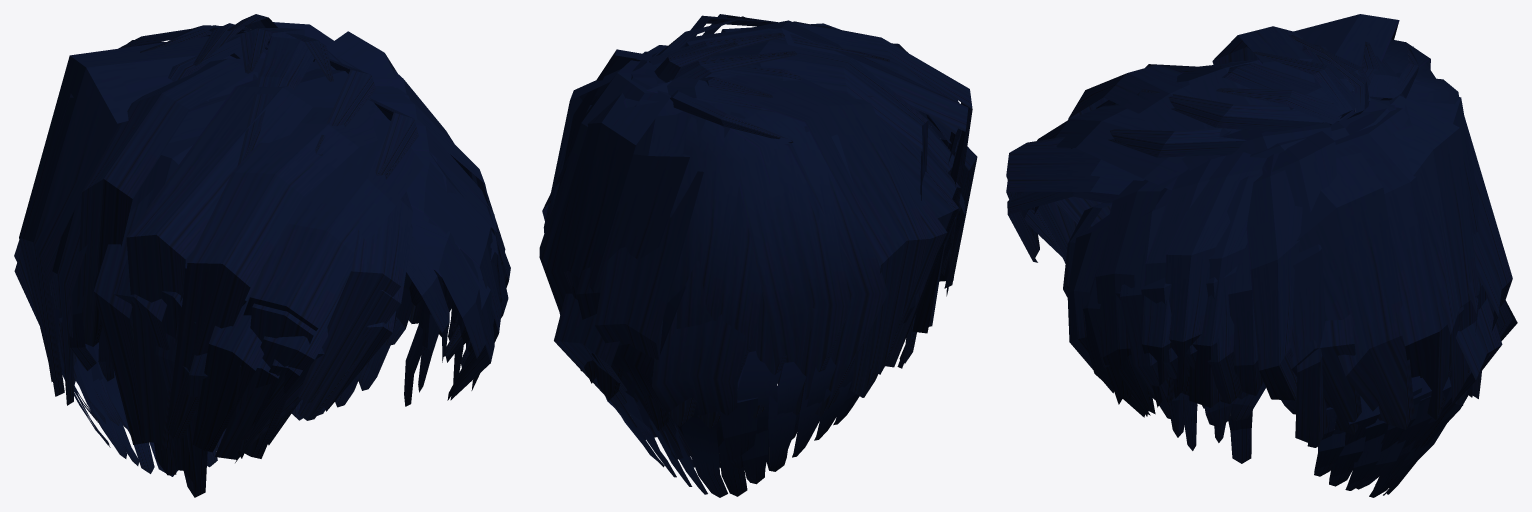
The model's file is toufa.fbx.
3 views of the same model, side by side, from view 1: azimuth 30°, elevation 25°; view 2: azimuth 150°, elevation 25°; view 3: azimuth 270°, elevation 25° (orthographic). The views are drawn at different scales.
Parts seen in each view (by area): view 1: pPlane129, pPlane130, pPlane231, pPlane128, pPlane131, pPlane229, pPlane99, pPlane95, pPlane145, pPlane96, pPlane112, pPlane100 (+36 smaller); view 2: pPlane103, pPlane231, pPlane109, pPlane106, pPlane105, pPlane102, pPlane108, pPlane173, pPlane131, pPlane107, pPlane130, pPlane129 (+36 smaller); view 3: pPlane111, pPlane110, pPlane109, pPlane123, pPlane124, pPlane148, pPlane145, pPlane128, pPlane147, pPlane129, pPlane126, pPlane149 (+39 smaller).
Part boxes in pixels (box(x1,y1,x2,y2)): pPlane129: box(166, 98, 388, 438); pPlane130: box(126, 68, 377, 449); pPlane231: box(19, 36, 253, 381); pPlane128: box(225, 118, 424, 428); pPlane131: box(75, 58, 320, 346); pPlane229: box(297, 191, 412, 403); pPlane99: box(93, 72, 259, 444); pPlane95: box(192, 291, 263, 452); pPlane145: box(406, 154, 501, 390); pPlane96: box(215, 270, 351, 462); pPlane112: box(411, 216, 486, 400); pPlane100: box(50, 26, 266, 405); pPlane103: box(739, 139, 851, 415); pPlane231: box(723, 75, 930, 374); pPlane109: box(545, 74, 671, 383); pPlane106: box(576, 99, 714, 400); pPlane105: box(667, 116, 744, 426); pPlane102: box(729, 105, 888, 416); pPlane108: box(595, 125, 730, 430); pPlane173: box(623, 98, 746, 448); pPlane131: box(710, 41, 928, 289); pPlane107: box(676, 185, 762, 428); pPlane130: box(734, 20, 968, 333); pPlane129: box(704, 21, 972, 296); pPlane111: box(1250, 121, 1414, 429); pPlane110: box(1335, 107, 1463, 420); pPlane109: box(1346, 95, 1478, 405); pPlane123: box(1246, 153, 1302, 400); pPlane124: box(1262, 131, 1336, 446); pPlane148: box(1165, 152, 1266, 398); pPlane145: box(1095, 174, 1180, 404); pPlane128: box(1037, 105, 1188, 228); pPlane147: box(1142, 155, 1225, 407); pPlane129: box(1068, 64, 1231, 170); pPlane126: box(1227, 122, 1361, 434); pPlane149: box(1189, 168, 1262, 407).
Bounding box in the file's own units: 4.26 × 4.61 × 4.84.
Materials: 1 (1 with a texture image).
